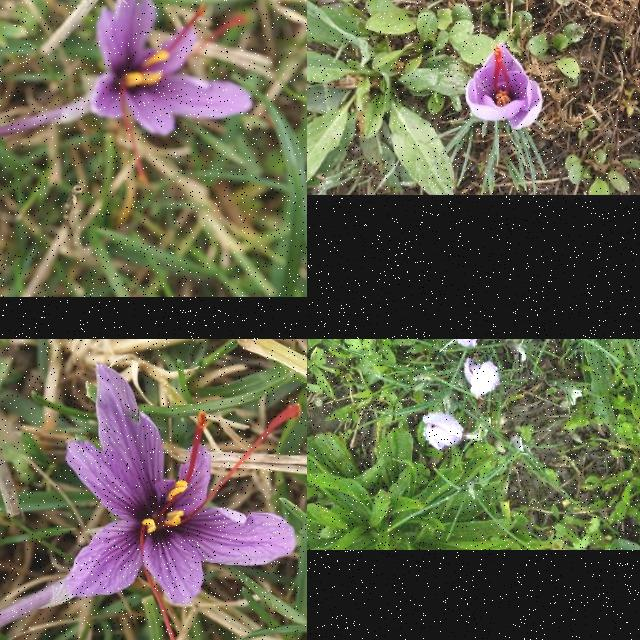flower: (66, 363, 300, 640), (91, 0, 253, 188), (466, 44, 542, 130), (422, 414, 462, 452), (464, 359, 501, 399), (455, 339, 487, 346)
